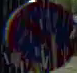No Stopping: (5, 1, 75, 72)
